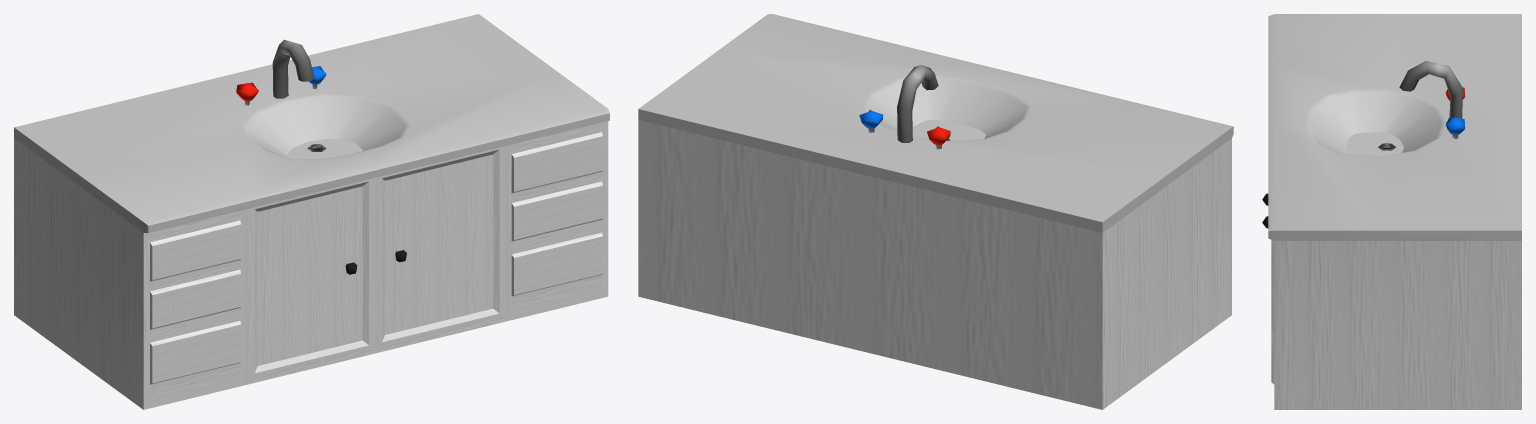
File: Bathroom_Sink_02_B.FBX
3 views of the same model, side by side, from view 1: azimuth 30°, elevation 25°; view 2: azimuth 150°, elevation 25°; view 3: azimuth 270°, elevation 25° (orthographic). The views are drawn at different scales.
Parts seen in each view (by area): view 1: Bathroom_Sink_02; view 2: Bathroom_Sink_02; view 3: Bathroom_Sink_02.
Part boxes in pixels (x1,y1,x2,y2): Bathroom_Sink_02: [14, 14, 609, 409]; Bathroom_Sink_02: [638, 14, 1233, 409]; Bathroom_Sink_02: [1262, 14, 1521, 409].
Bounding box in the file's own units: 290 × 150 × 147.
